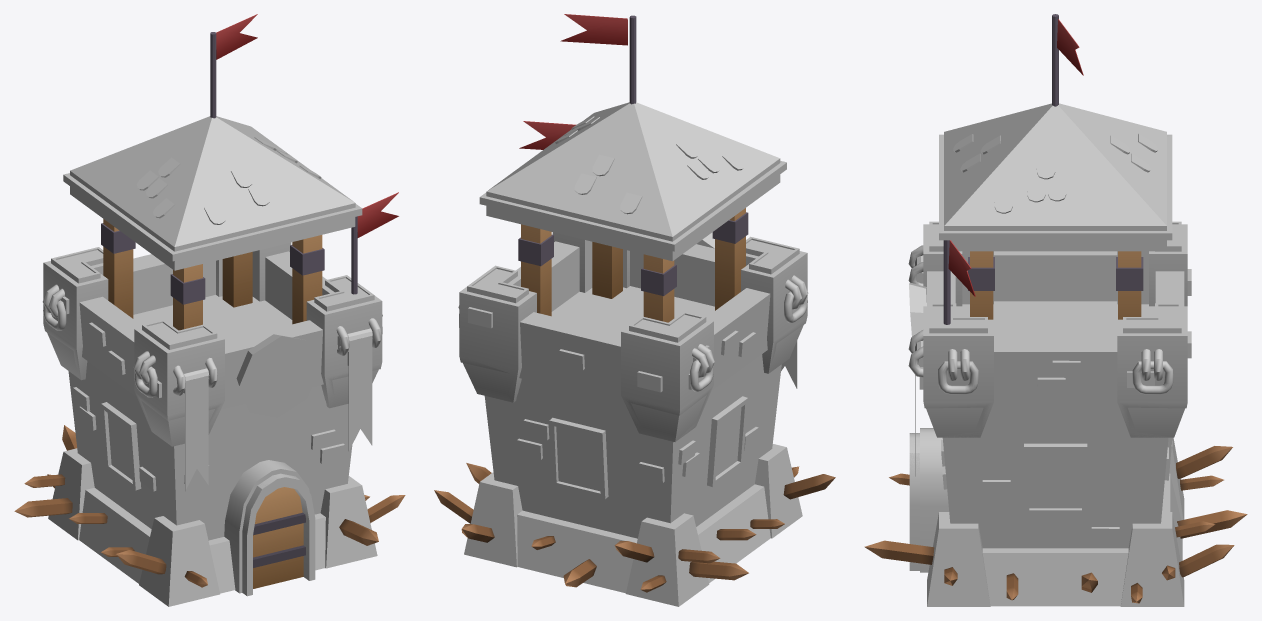
Rendered from Archer Tower lv3.fbx.
3 views of the same model, side by side, from view 1: azimuth 30°, elevation 25°; view 2: azimuth 150°, elevation 25°; view 3: azimuth 270°, elevation 25° (orthographic). The views are drawn at different scales.
Visible parts, largest first — view 1: Archer Tower Lv 2, Archer Tower Lv 3, Flag Lv3, Flah Lv2; view 2: Archer Tower Lv 2, Archer Tower Lv 3, Flag Lv3, Flah Lv2; view 3: Archer Tower Lv 2, Archer Tower Lv 3, Flah Lv2, Flag Lv3.
Boxes of the visible parts, <box> form: Archer Tower Lv 2: <box>14,216,405,606</box>; Archer Tower Lv 3: <box>25,32,382,593</box>; Flag Lv3: <box>216,14,257,59</box>; Flah Lv2: <box>357,192,398,237</box>; Archer Tower Lv 2: <box>434,232,835,606</box>; Archer Tower Lv 3: <box>434,15,835,592</box>; Flag Lv3: <box>560,14,627,45</box>; Flah Lv2: <box>519,121,576,149</box>; Archer Tower Lv 2: <box>864,224,1247,606</box>; Archer Tower Lv 3: <box>865,14,1246,603</box>; Flah Lv2: <box>948,240,975,296</box>; Flag Lv3: <box>1057,19,1083,75</box>.
Size of the model in its own units: 1180 by 1870 by 1208.
